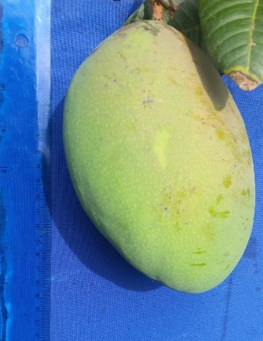Mango-sano: (63, 21, 254, 292)
